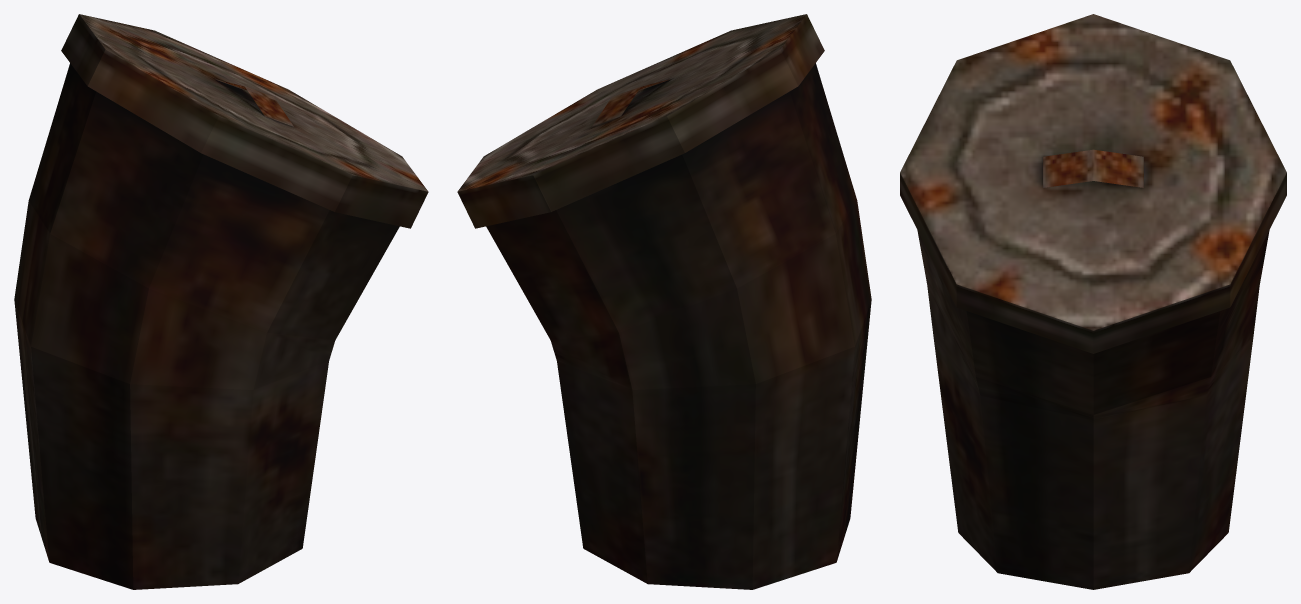
The model's file is pr_bin.glb.
3 renders of one model, left to right at view 1: azimuth 30°, elevation 25°; view 2: azimuth 150°, elevation 25°; view 3: azimuth 270°, elevation 25°, orthographic. The views are drawn at different scales.
Visible parts, largest first — view 1: body|Trash_can.001; view 2: body|Trash_can.001; view 3: body|Trash_can.001.
Boxes of the visible parts, x1,y1,x2,y2 form: body|Trash_can.001: (14, 14, 428, 589); body|Trash_can.001: (457, 14, 871, 589); body|Trash_can.001: (900, 14, 1286, 589).
Size of the model in its own units: 0.5935 by 0.7631 by 0.5477.
1 material, 1 textured.
